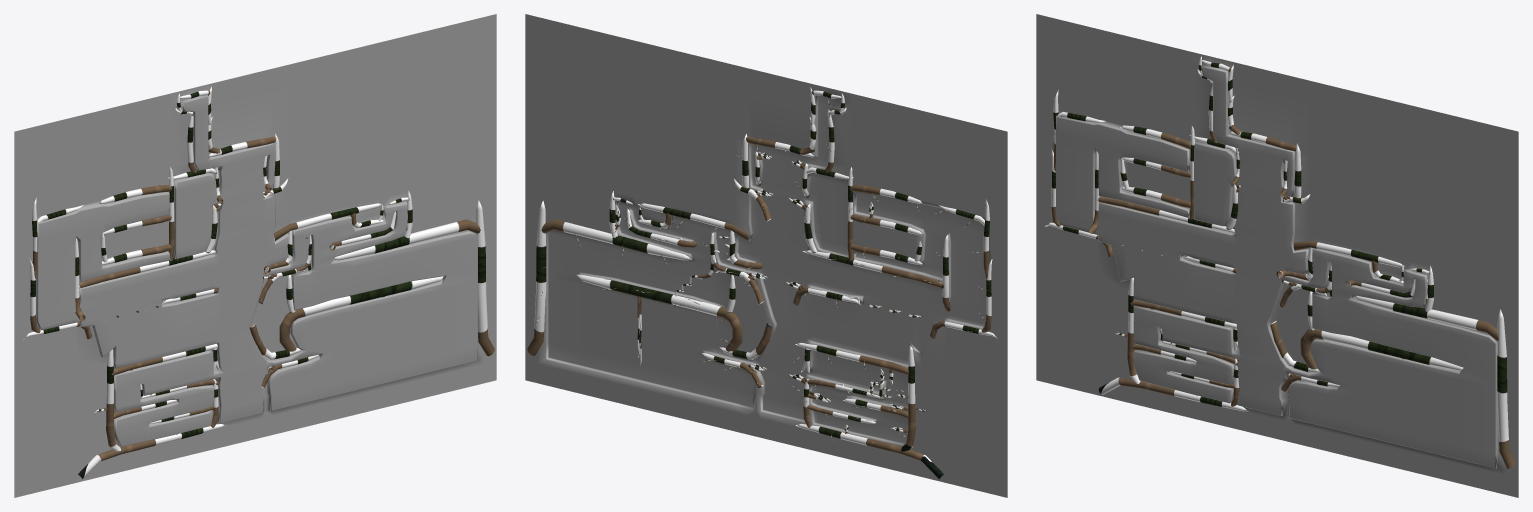
Rendered from fondo_level_preboss.fbx.
3 renders of one model, left to right at view 1: azimuth 30°, elevation 25°; view 2: azimuth 150°, elevation 25°; view 3: azimuth 330°, elevation 25°, orthographic.
Parts seen in each view (by area): view 1: fondo_level_preboss, pCylinder18, pCylinder22, pCylinder21, pCylinder1, pCylinder45, pCylinder24, pCylinder6, pCylinder10; view 2: fondo_level_preboss, pCylinder18, pCylinder21, pCylinder22, pCylinder1, pCylinder45, pCylinder10, pCylinder6, pCylinder24; view 3: fondo_level_preboss, pCylinder18, pCylinder21, pCylinder22, pCylinder1, pCylinder45, pCylinder24, pCylinder6, pCylinder10, pCylinder26.
Boxes of the visible parts, x1,y1,x2,y2 form: fondo_level_preboss: (14, 14, 496, 497); pCylinder18: (279, 276, 443, 351); pCylinder22: (334, 219, 480, 260); pCylinder21: (476, 200, 494, 356); pCylinder1: (78, 424, 226, 479); pCylinder45: (78, 250, 215, 288); pCylinder24: (274, 203, 383, 240); pCylinder6: (106, 349, 120, 451); pCylinder10: (112, 343, 217, 375); fondo_level_preboss: (525, 14, 1007, 497); pCylinder18: (576, 274, 742, 351); pCylinder21: (527, 201, 546, 355); pCylinder22: (541, 219, 692, 260); pCylinder1: (796, 424, 943, 479); pCylinder45: (802, 250, 943, 288); pCylinder10: (795, 342, 909, 375); pCylinder6: (901, 345, 915, 451); pCylinder24: (638, 203, 748, 241); fondo_level_preboss: (1036, 14, 1518, 497); pCylinder18: (1300, 329, 1463, 370); pCylinder21: (1497, 309, 1515, 468); pCylinder22: (1354, 295, 1498, 341); pCylinder1: (1098, 377, 1248, 411); pCylinder45: (1097, 196, 1235, 233); pCylinder24: (1293, 241, 1405, 267); pCylinder6: (1127, 277, 1140, 384); pCylinder10: (1130, 300, 1236, 328); pCylinder26: (1270, 321, 1320, 372).
Bounding box in the file's own units: 417 × 303 × 22.98.
2 materials, 1 textured.
